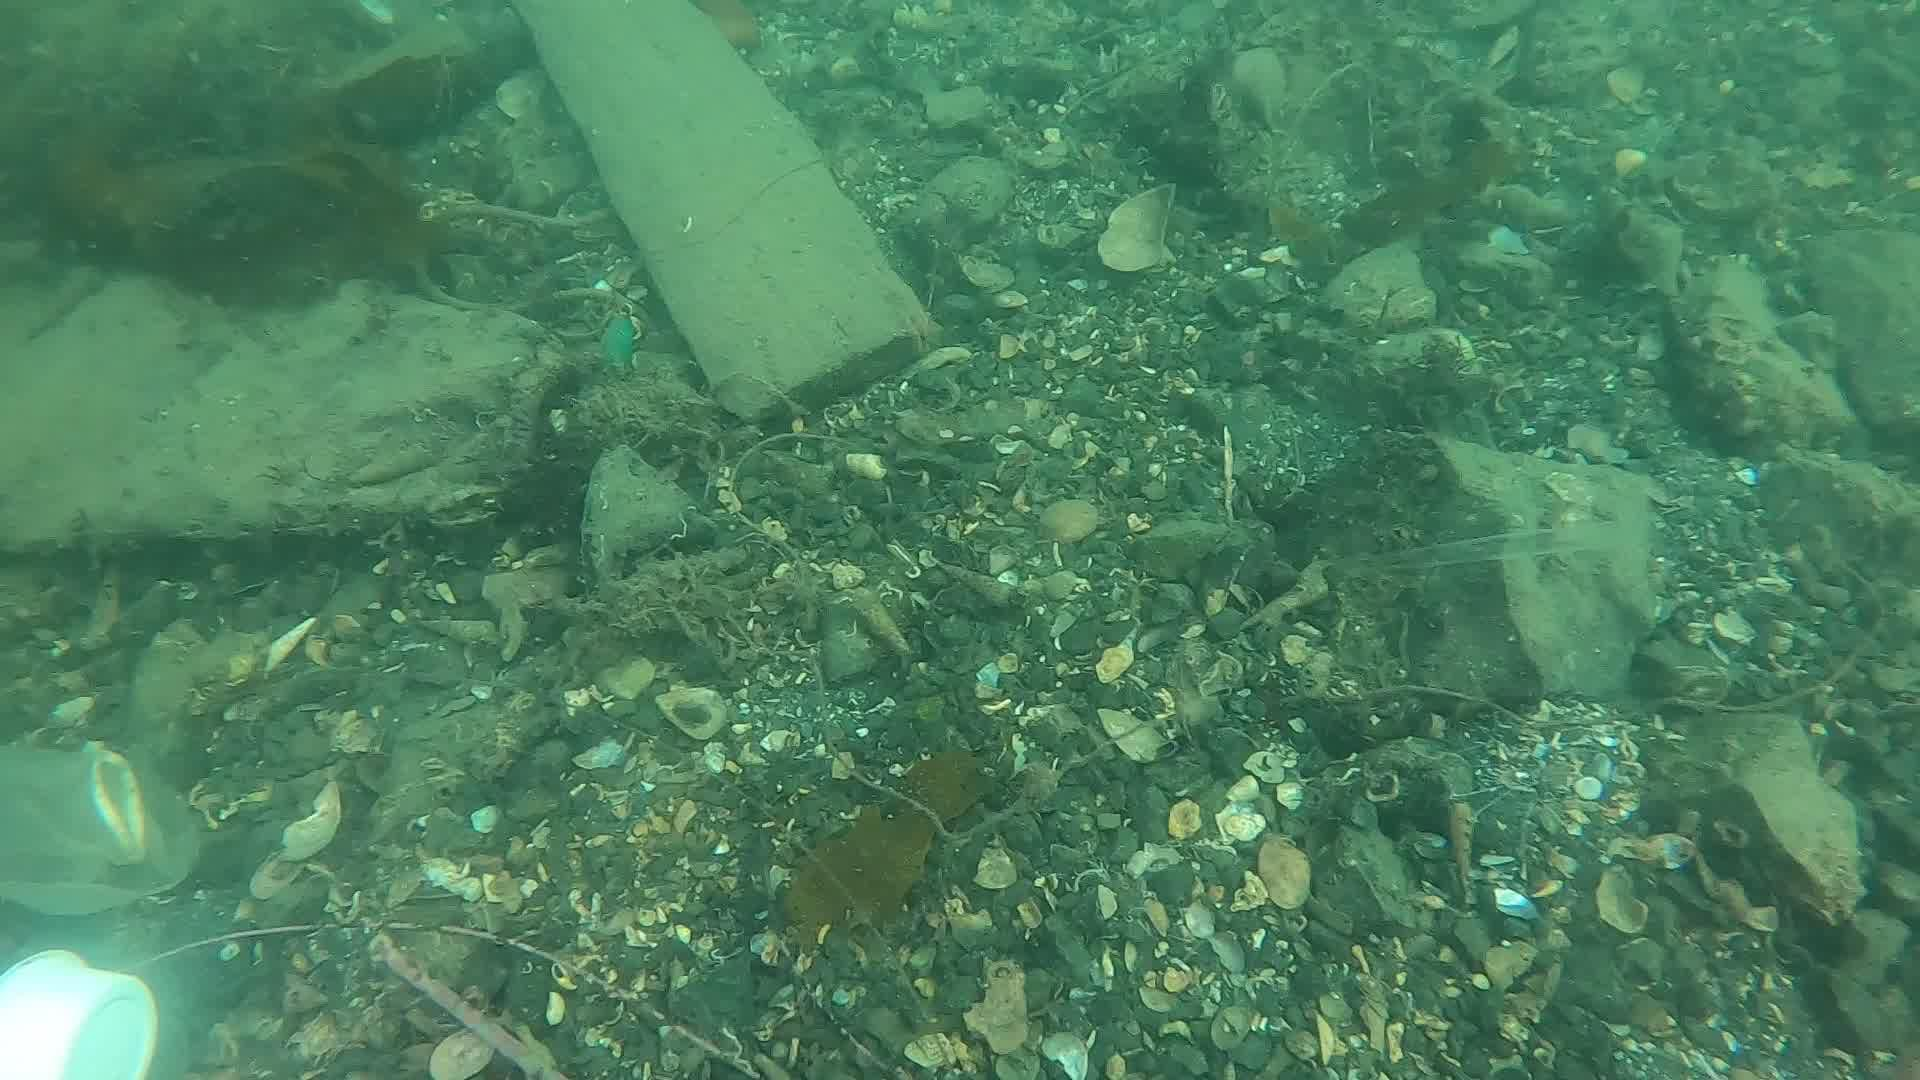wood: (518, 0, 942, 425)
